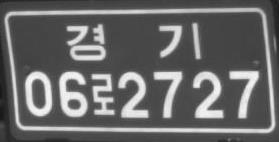0: (23, 70, 53, 118)
2: (191, 70, 225, 120), (117, 70, 150, 119)
6: (58, 70, 88, 119)
7: (227, 69, 260, 120), (152, 70, 183, 119)
경기_D: (65, 21, 202, 62)
로: (90, 72, 116, 116)
